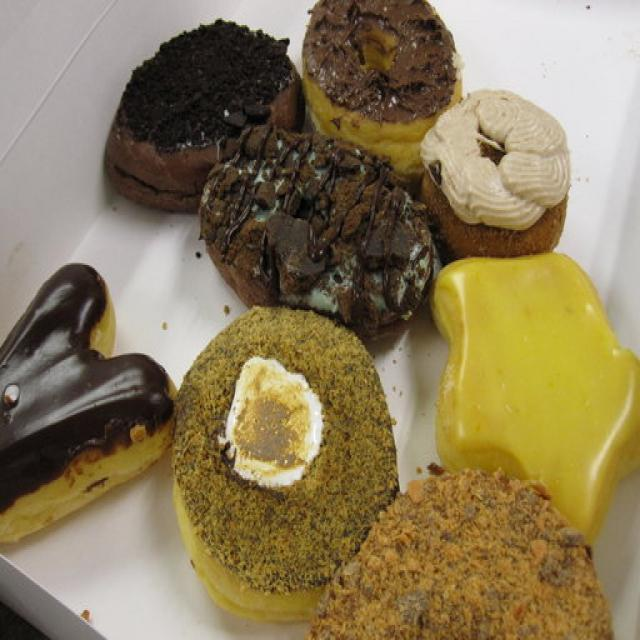Donuts: (16, 18, 640, 640)
